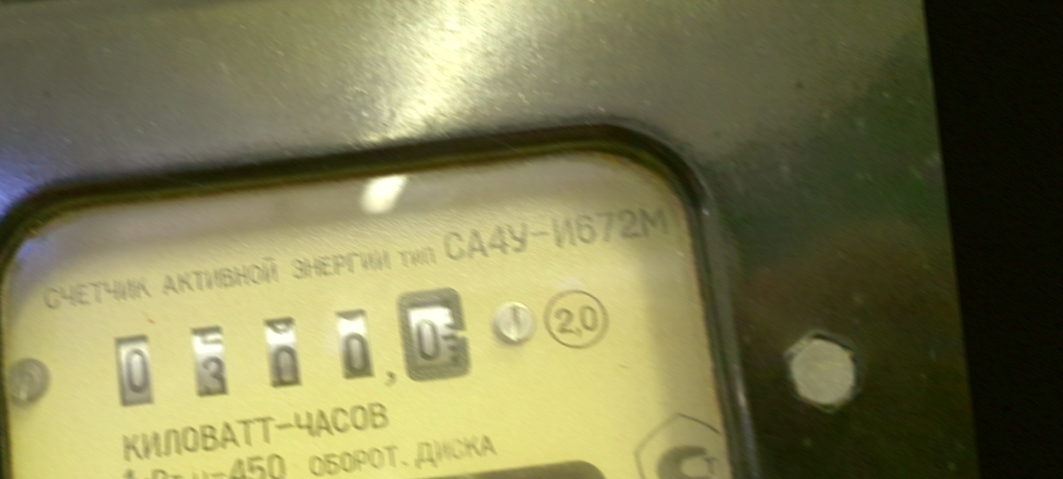0: (120, 343, 152, 397), (411, 314, 443, 366), (268, 339, 300, 390), (338, 329, 371, 378)
3: (196, 351, 229, 398)
screen: (90, 279, 481, 429)
